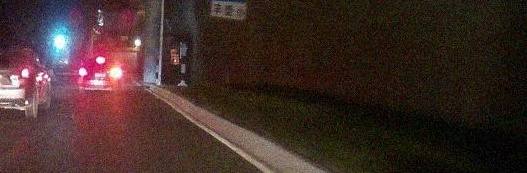L_light: (79, 70, 86, 75)
R_light: (111, 70, 118, 75)
T_light: (96, 59, 105, 62)
night-right: (79, 58, 119, 92)
